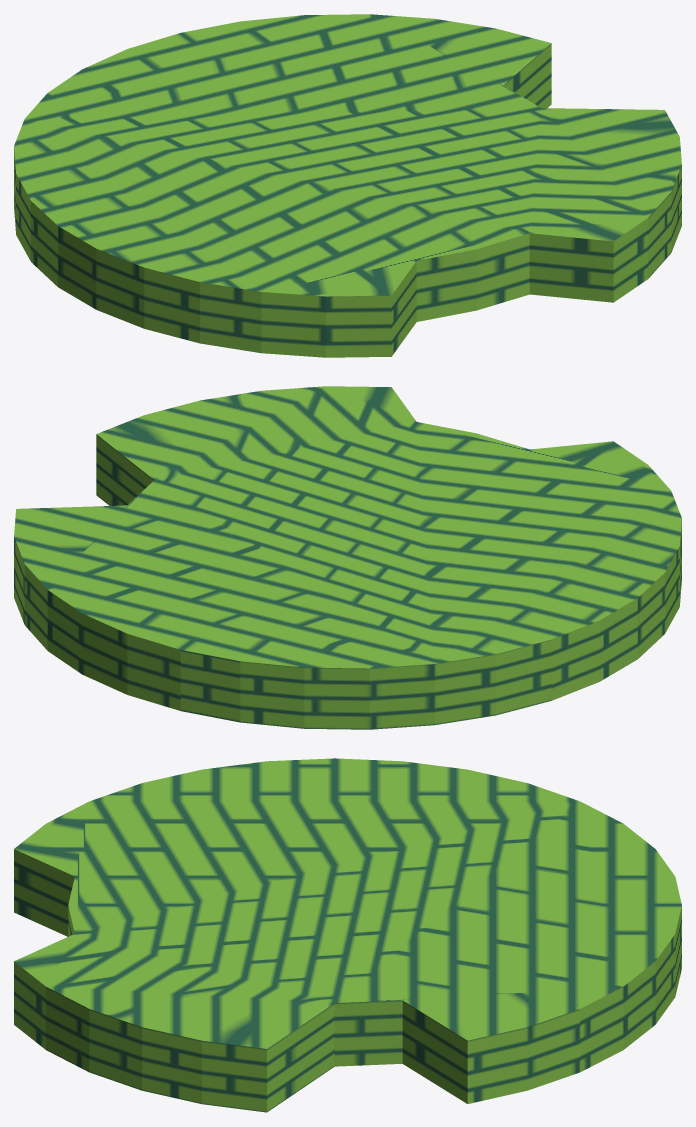
Rendered from circleBricks.glb.
3 views of the same model, one above another, from view 1: azimuth 30°, elevation 25°; view 2: azimuth 150°, elevation 25°; view 3: azimuth 270°, elevation 25° (orthographic). The views are drawn at different scales.
Parts seen in each view (by area): view 1: Cylinder; view 2: Cylinder; view 3: Cylinder.
Boxes of the visible parts, x1,y1,x2,y2 form: Cylinder: (14,14,681,357); Cylinder: (14,386,681,729); Cylinder: (14,758,681,1112).
Size of the model in its own units: 2.58 by 0.2629 by 2.51.
Materials: 1 (1 with a texture image).
